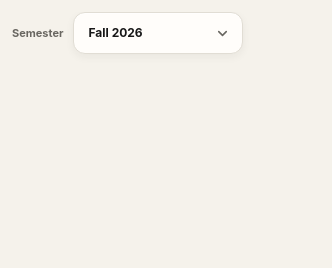
SemesterPicker › opens, navigates with the keyboard, and selects a semester
Click the button with aria-label "Semester".
click(158, 33)  # box [74, 12, 244, 54]
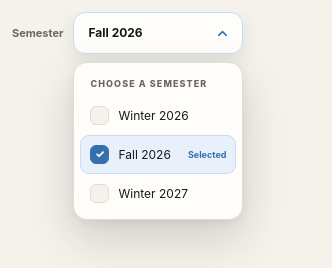
Now the button with aria-label "Semester" is expanded, box [74, 12, 244, 54]
Now the list named "Available semesters" is shown, box [74, 62, 244, 220]
Press ArrowDown in the option "✓ Fall 2026 Selected", box [80, 135, 236, 174]
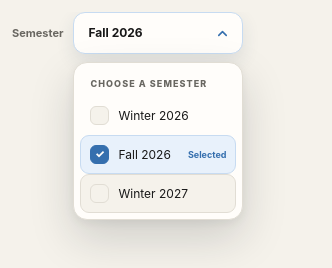
Click the option "Winter 2027".
click(158, 194)  # box [80, 174, 236, 213]
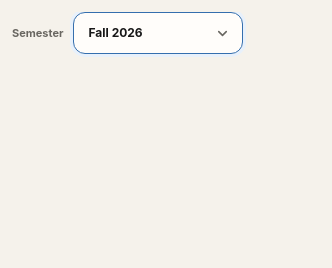
Now the button with aria-label "Semester" is collapsed, box [74, 12, 244, 54]
